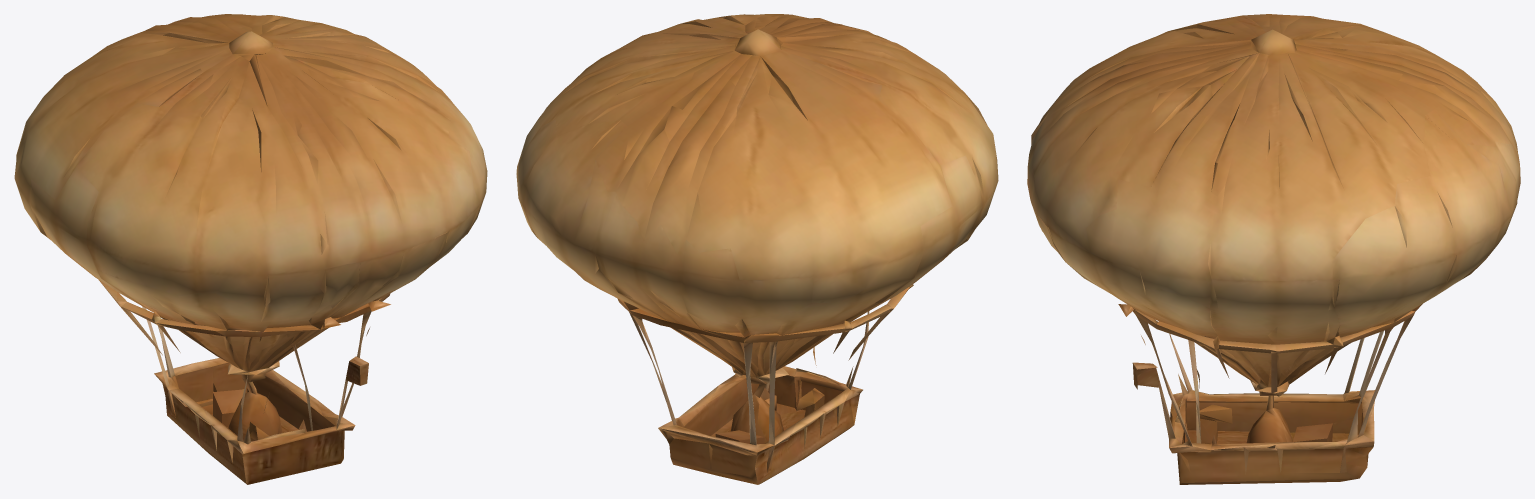
The model's file is m2AirshipBg.glb.
The picture shows the model from 3 angles, left to right: view 1: azimuth 30°, elevation 25°; view 2: azimuth 150°, elevation 25°; view 3: azimuth 270°, elevation 25°; orthographic projection. The views are drawn at different scales.
Visible parts, largest first — view 1: model; view 2: model; view 3: model.
Part boxes in pixels (x1,y1,x2,y2): model: (14, 14, 487, 484); model: (516, 14, 998, 484); model: (1027, 14, 1520, 484).
Bounding box in the file's own units: 1.83 × 1.83 × 1.89.
Materials: 1 (1 with a texture image).
